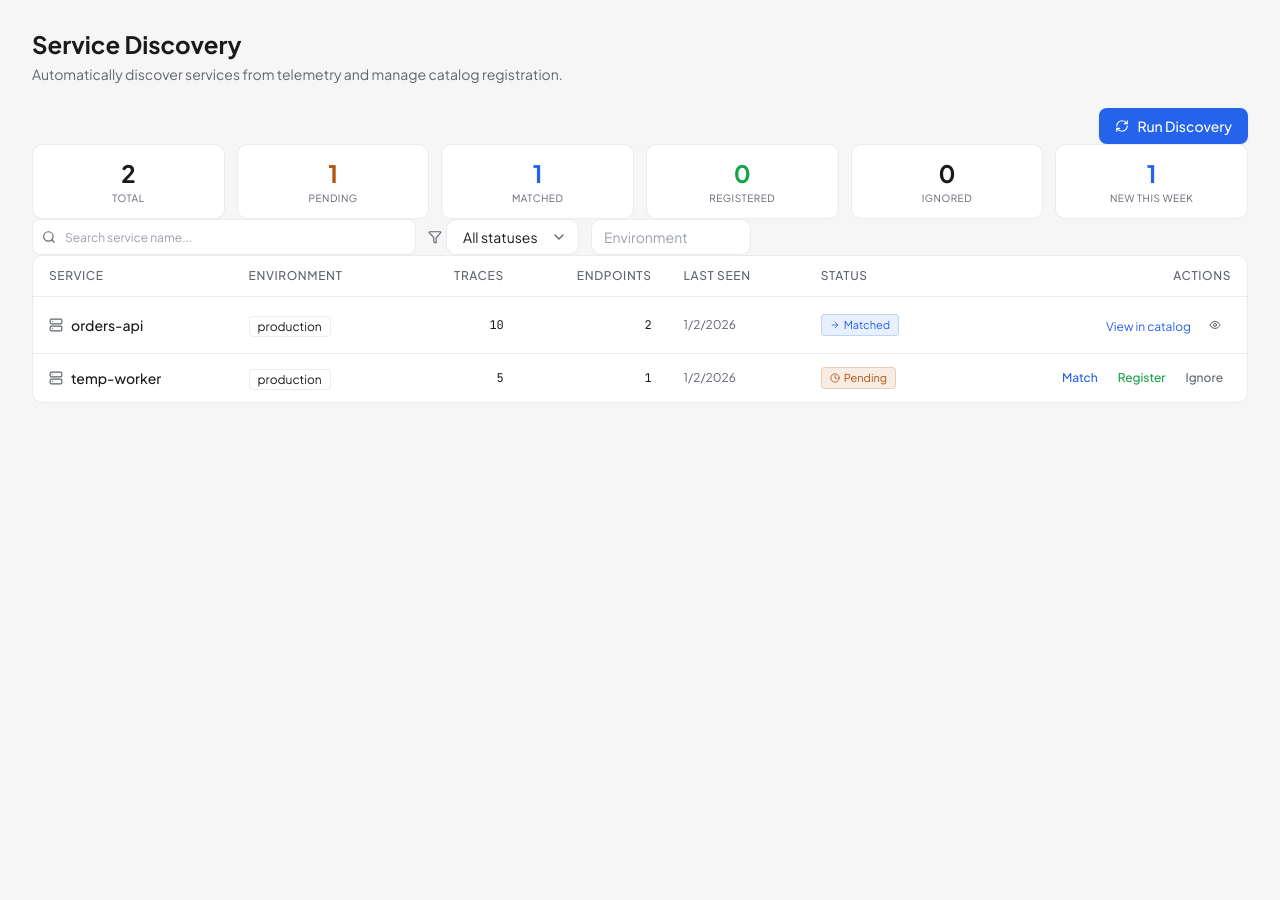
Test case: ServiceDiscoveryPage drill-through › abrir "Match" mostra o modal DS com o campo de Service Asset ID
Click the button "Match".
click(1080, 378)  # box x1=1054 y1=366 x2=1106 y2=390
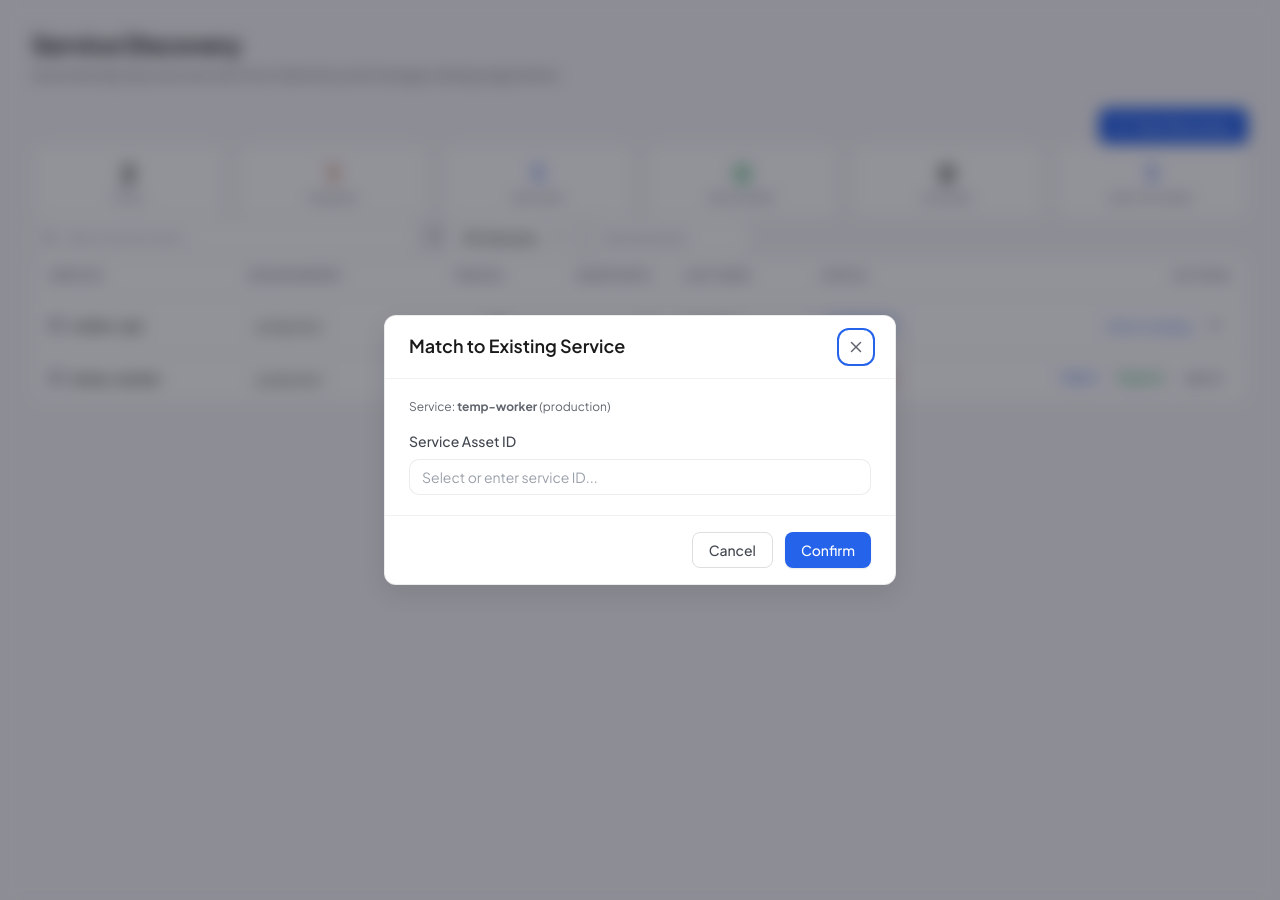
Now the text "Service Asset ID" is shown, box x1=409 y1=432 x2=516 y2=450
